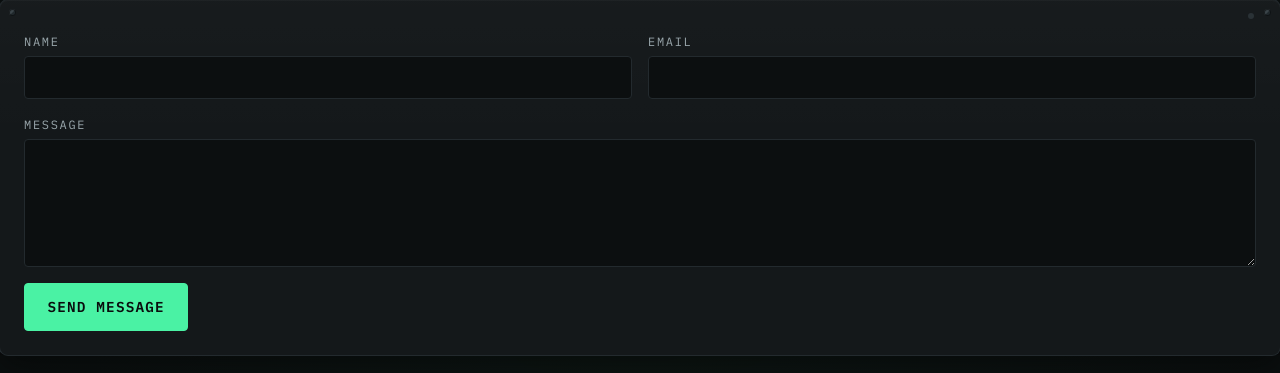
Test: ContactForm › posts a stamped message with the body hash CloudFront needs
Type " Ada " into the field labelled "Name" at (328, 77), box [24, 56, 632, 99]
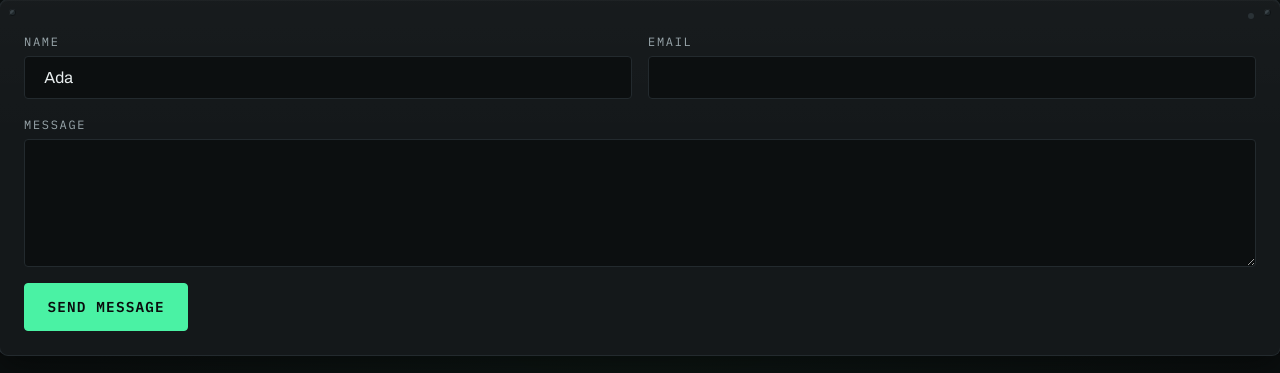
Type "ada@example.com" into the field labelled "Email" at (952, 77), box [648, 56, 1256, 99]
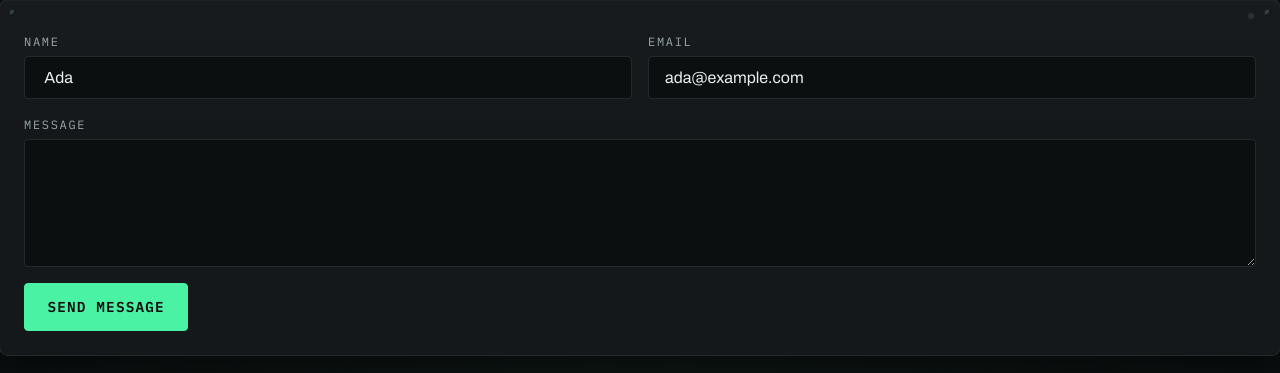
Type "Hello, lovely patches." into the text box labelled "Message" at (640, 203), box [24, 139, 1256, 267]
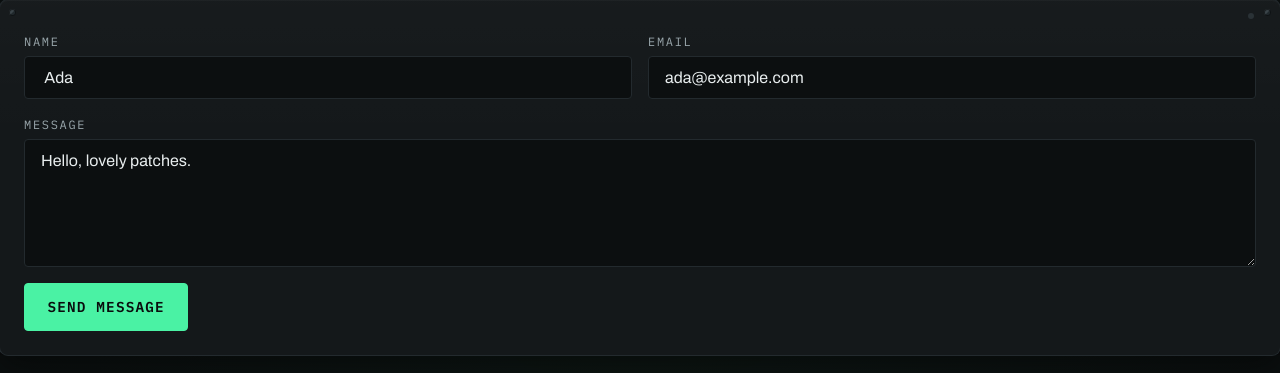
Click the button "Send message" at (106, 307), box [24, 283, 188, 331]
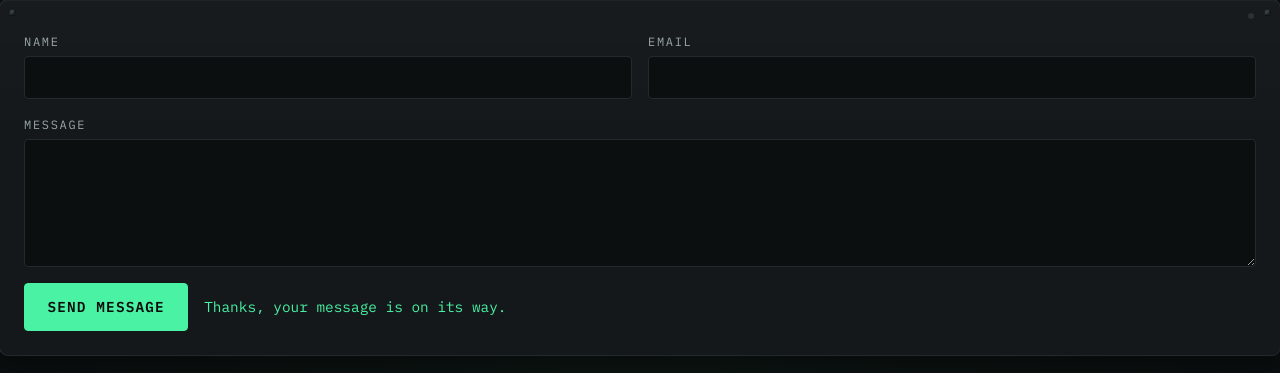
Expected: the text "Thanks, your message is on its way." is shown, [204, 295, 506, 319]
Expected: the field labelled "Name" is empty, [24, 56, 632, 99]
